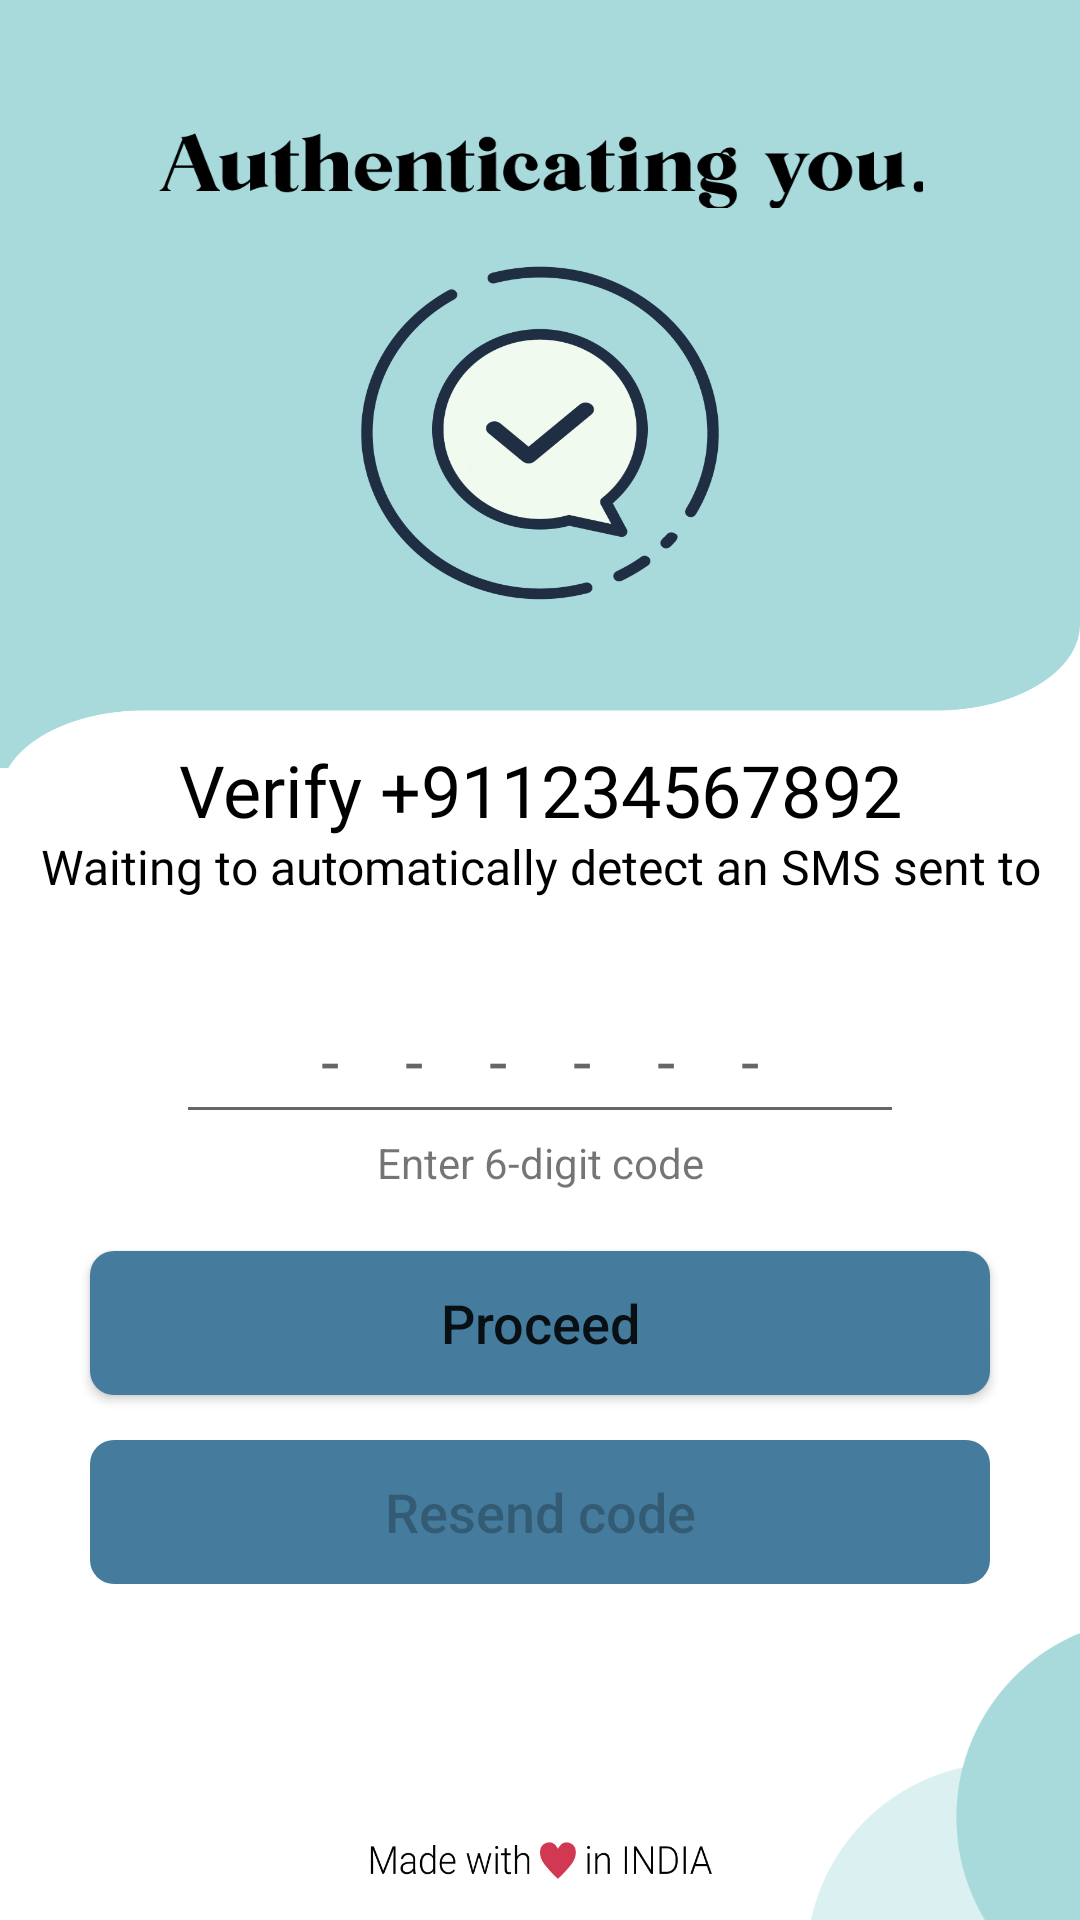

Where icons sit on this 1080 x 1920 app screen, as (x1, y1, x2, y2):
tickright: (361, 266, 719, 600)
